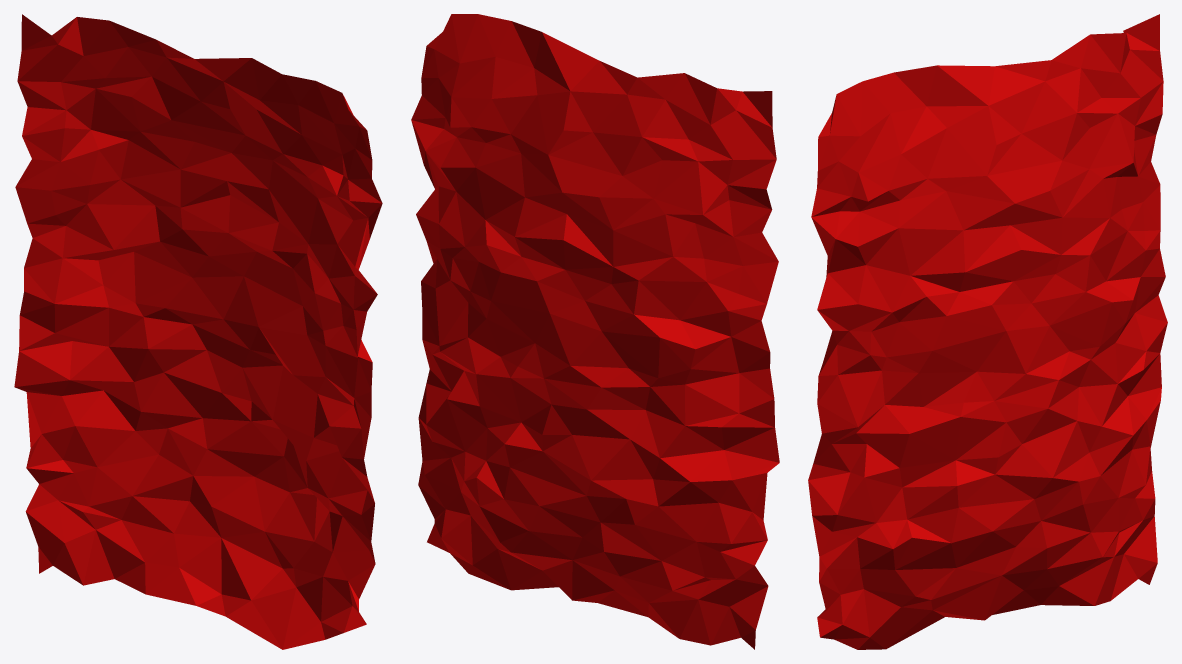
File: Backdropp01.fbx
3 renders of one model, left to right at view 1: azimuth 30°, elevation 25°; view 2: azimuth 210°, elevation 25°; view 3: azimuth 270°, elevation 25°, orthographic.
Parts seen in each view (by area): view 1: Backdropp01; view 2: Backdropp01; view 3: Backdropp01.
Part boxes in pixels (x1,y1,x2,y2): Backdropp01: (14,14,382,649); Backdropp01: (411,14,779,649); Backdropp01: (808,14,1167,649).
Size of the model in its own units: 20542 by 57933 by 32500.
